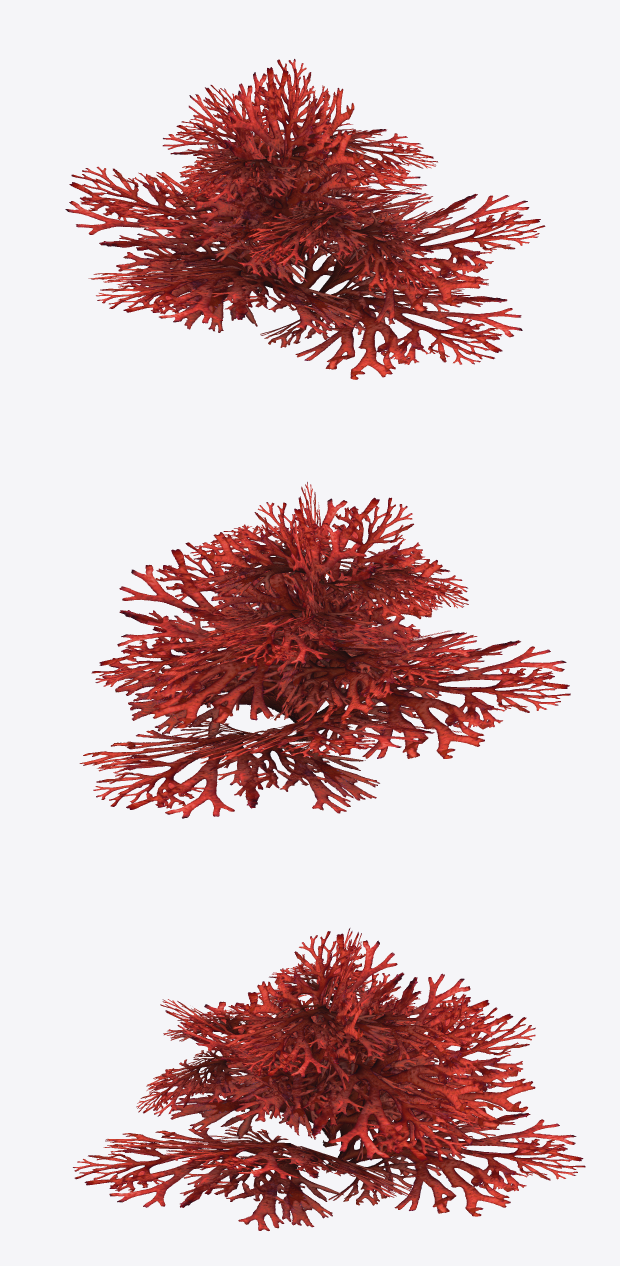
The model's file is Coral-Small_LOD0.fbx.
3 renders of one model, top to bottom at view 1: azimuth 30°, elevation 25°; view 2: azimuth 150°, elevation 25°; view 3: azimuth 270°, elevation 25°, orthographic. The views are drawn at different scales.
Visible parts, largest first — view 1: Coral-Small_LOD0; view 2: Coral-Small_LOD0; view 3: Coral-Small_LOD0.
Boxes of the visible parts, bbox=[...] form: Coral-Small_LOD0: bbox=[65, 59, 545, 379]; Coral-Small_LOD0: bbox=[79, 482, 570, 818]; Coral-Small_LOD0: bbox=[73, 928, 585, 1230].
Bounding box in the file's own units: 0.3798 × 0.1868 × 0.3744.
